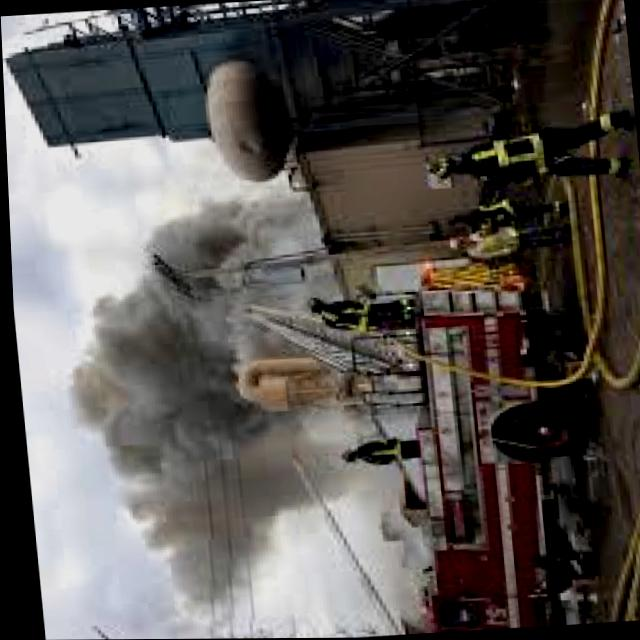no_helmet: (40, 182, 355, 623)
